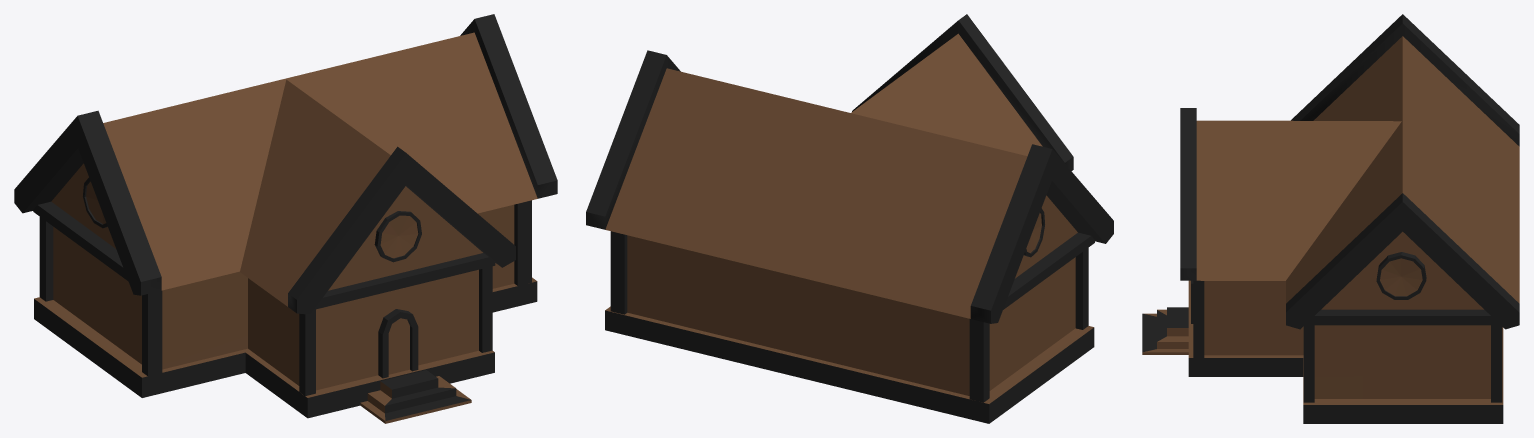
The model's file is house 4.fbx.
The picture shows the model from 3 angles, left to right: view 1: azimuth 30°, elevation 25°; view 2: azimuth 150°, elevation 25°; view 3: azimuth 270°, elevation 25°; orthographic projection. The views are drawn at different scales.
Parts seen in each view (by area): view 1: haus1.002; view 2: haus1.002; view 3: haus1.002.
Boxes of the visible parts, bbox=[...] form: haus1.002: bbox=[14, 14, 557, 423]; haus1.002: bbox=[586, 14, 1113, 423]; haus1.002: bbox=[1142, 14, 1519, 423].
Size of the model in its own units: 214 by 120 by 181.
